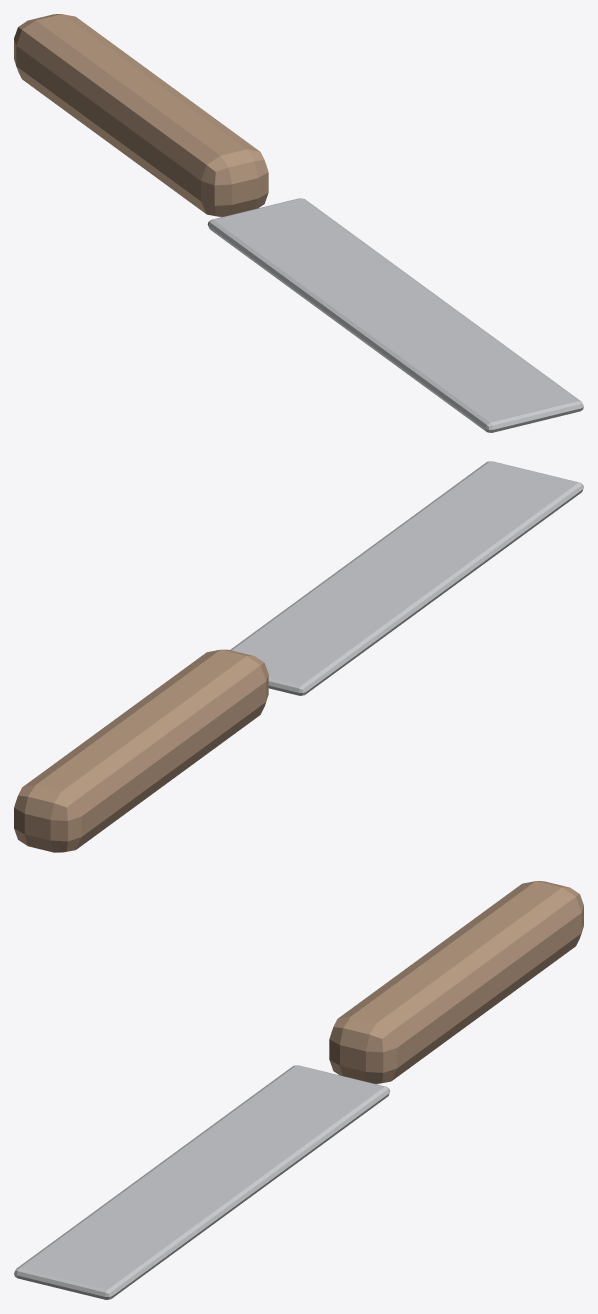
File: spatula.fbx
3 renders of one model, top to bottom at view 1: azimuth 30°, elevation 25°; view 2: azimuth 150°, elevation 25°; view 3: azimuth 330°, elevation 25°, orthographic.
Visible parts, largest first — view 1: spatula; view 2: spatula; view 3: spatula.
Part boxes in pixels (bbox=[...]): spatula: bbox=[14, 14, 583, 432]; spatula: bbox=[14, 461, 583, 852]; spatula: bbox=[14, 881, 583, 1299].
Size of the model in its own units: 0.03 by 0.018 by 0.265.
